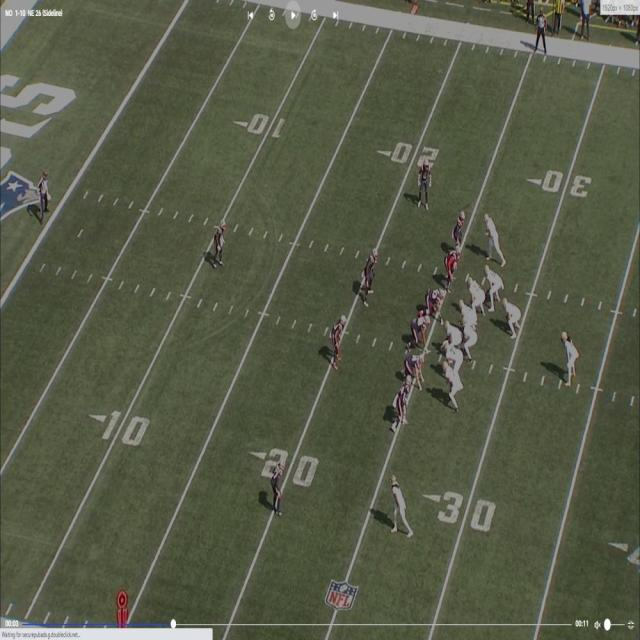center: (444, 318, 462, 348)
db: (272, 454, 288, 512), (417, 156, 435, 206), (452, 213, 466, 260), (213, 218, 225, 266)
lb: (359, 251, 376, 304), (397, 379, 413, 429), (330, 321, 344, 369), (446, 248, 462, 287)
qb: (462, 315, 474, 369)
skill: (484, 262, 504, 309), (392, 482, 409, 535), (484, 214, 502, 260), (561, 327, 575, 383), (503, 300, 520, 334)
